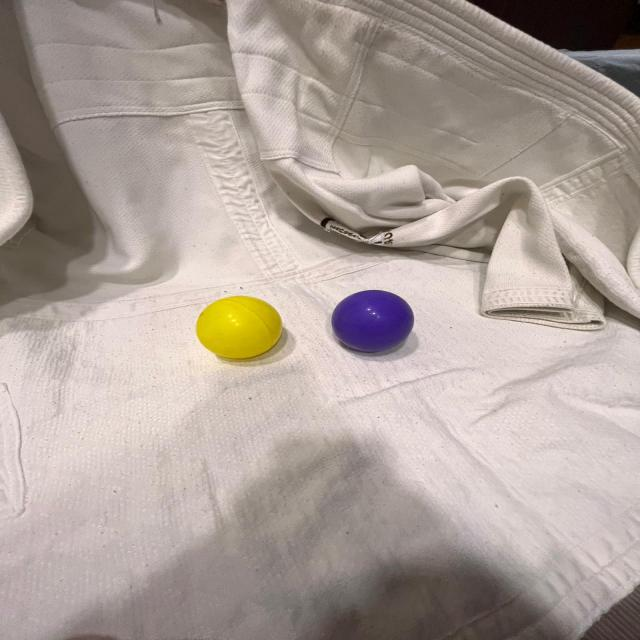ball: (194, 294, 288, 361), (327, 288, 415, 355)
